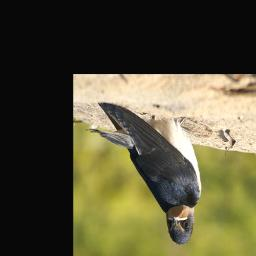Swallow: (85, 103, 202, 245)
